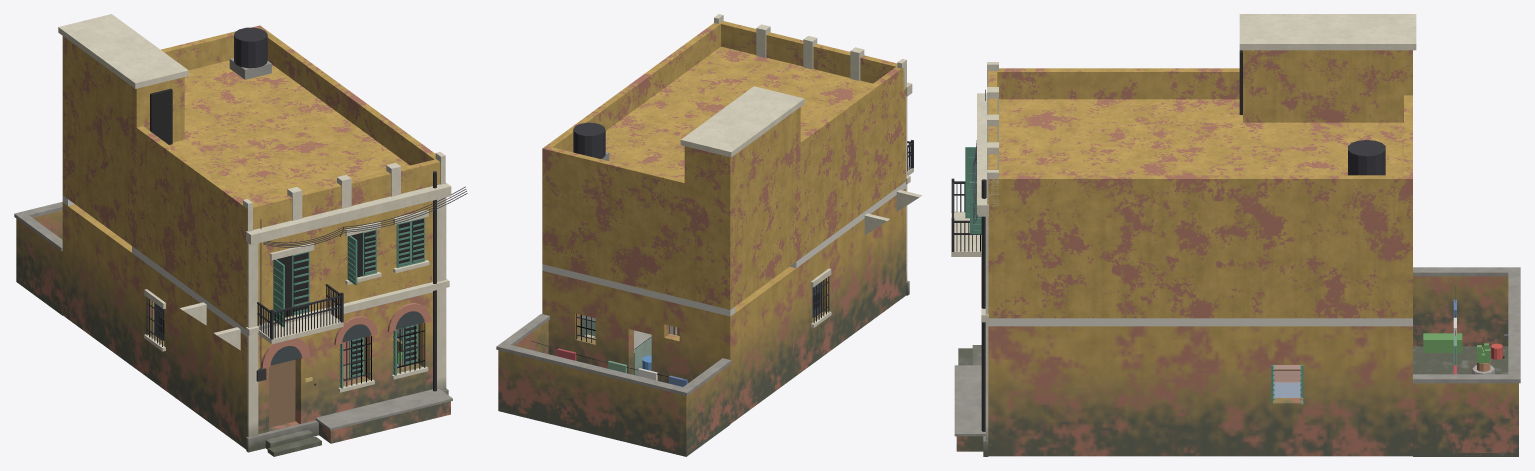
The model's file is hero-home.glb.
3 renders of one model, left to right at view 1: azimuth 30°, elevation 25°; view 2: azimuth 150°, elevation 25°; view 3: azimuth 270°, elevation 25°, orthographic. The views are drawn at different scales.
Visible parts, largest first — view 1: Hero house - upper floor + ceiling, Hero house - ground floor shell, Back yard, Facade cables + nameplate, Home front door right, Dalan window, Home front door left; view 2: Hero house - upper floor + ceiling, Hero house - ground floor shell, Back yard, Dalan window; view 3: Hero house - upper floor + ceiling, Hero house - ground floor shell, Back yard, Mosquito net.
Boxes of the visible parts, <box> form: Hero house - upper floor + ceiling: <box>58,14,451,350</box>; Hero house - ground floor shell: <box>62,171,452,456</box>; Back yard: <box>14,202,62,315</box>; Facade cables + nameplate: <box>256,186,467,385</box>; Home front door right: <box>280,360,295,424</box>; Dalan window: <box>144,289,165,351</box>; Home front door left: <box>269,363,280,427</box>; Hero house - upper floor + ceiling: <box>542,14,921,316</box>; Hero house - ground floor shell: <box>542,175,910,423</box>; Back yard: <box>496,314,731,456</box>; Dalan window: <box>810,268,831,327</box>; Hero house - upper floor + ceiling: <box>951,14,1416,326</box>; Hero house - ground floor shell: <box>954,179,1412,456</box>; Back yard: <box>1413,267,1520,456</box>; Mosquito net: <box>1274,365,1300,397</box>.
Bounding box in the file's own units: 8.9 × 10.32 × 16.1.
93 materials, 66 textured.
